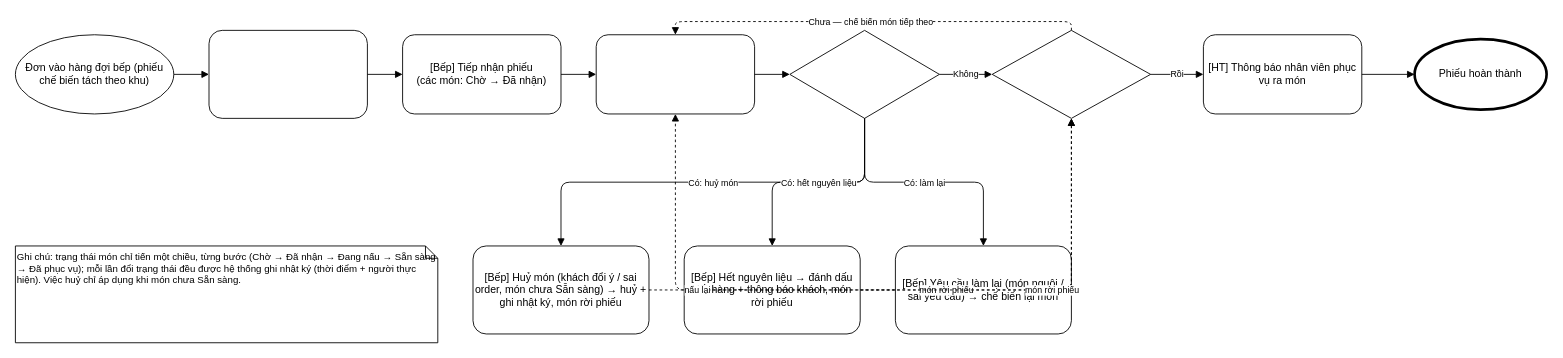
Image size: 1563x358. Some labels were removed from this diagram. The shapes that lost their labels are listed below. From the top down, each one's centre as x and y in pixels, then its label:
(287,73): [Bếp] Mở màn hình khu → xem phiếu của khu mình (món, bàn, SL, ghi chú)
(675,74): [Bếp] Chế biến từng món trong phiếu (Đang nấu → Sẵn sàng)
(864,73): Món phát sinh ngoại lệ?
(1071,73): Tất cả món trong phiếu đã Sẵn sàng?
